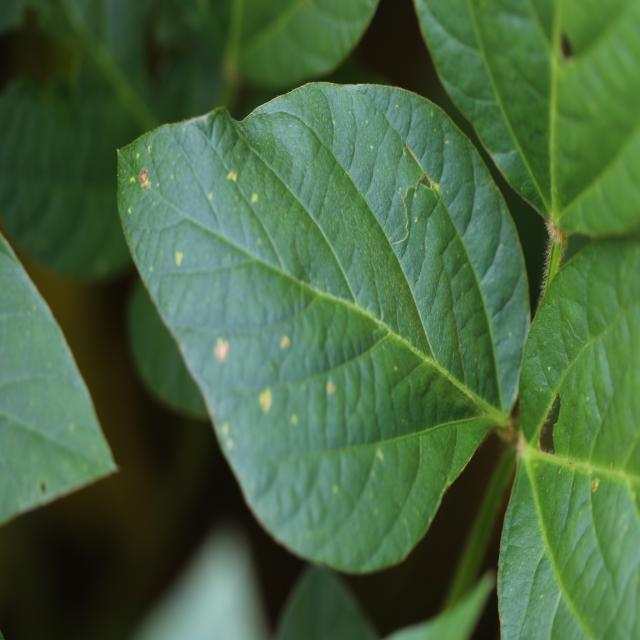Soybean: (113, 0, 640, 640)
downey_mildew: (161, 157, 280, 291), (231, 326, 337, 460), (248, 293, 338, 420), (123, 144, 166, 209), (131, 164, 155, 197), (258, 387, 272, 413), (221, 423, 231, 440), (280, 335, 291, 350), (226, 170, 237, 182), (251, 192, 258, 203), (68, 423, 75, 433), (228, 438, 233, 450), (129, 176, 136, 184)
